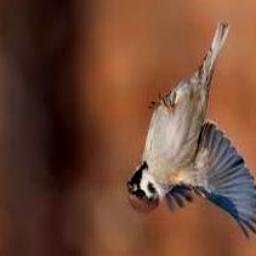Sparrow: (127, 25, 256, 241)
